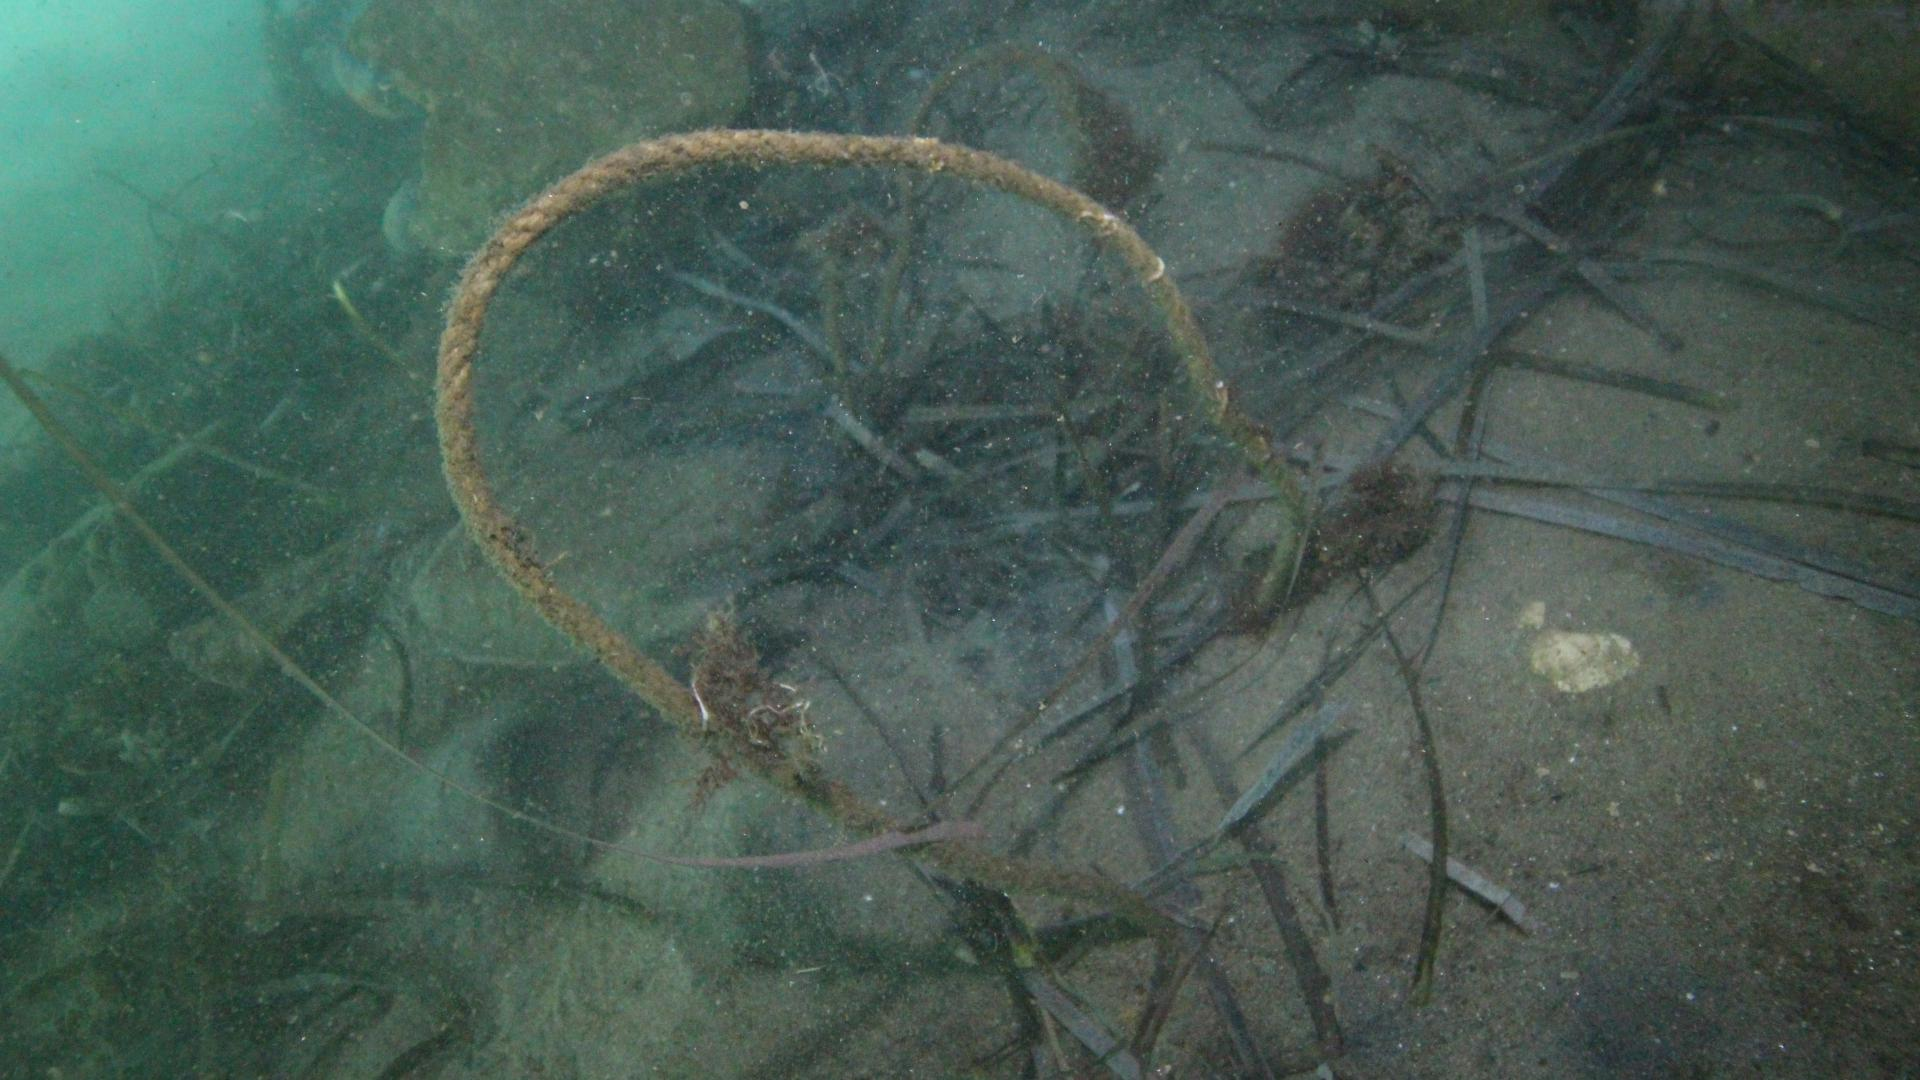rope: (434, 127, 1328, 942)
